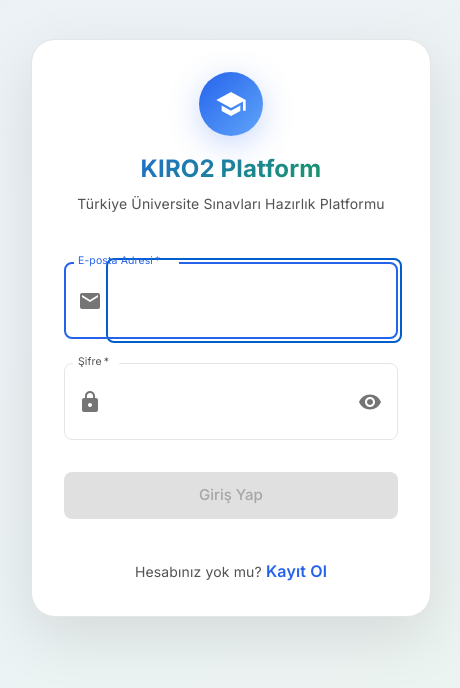
Test: ModernLoginForm › Form Validation › clears field error when user starts typing
# Trigger validation error
Step 1. Submit the form, box left=64, top=246, right=398, bottom=535
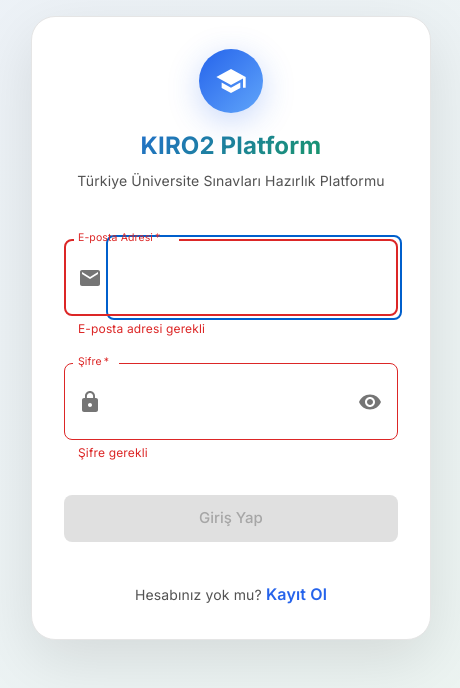
Check: the text "E-posta adresi gerekli" is shown, box left=78, top=322, right=205, bottom=336
# Start typing in email field
Step 2. Type "t" into the field labelled "E-posta Adresi *" → point(254, 278), box left=110, top=240, right=398, bottom=316
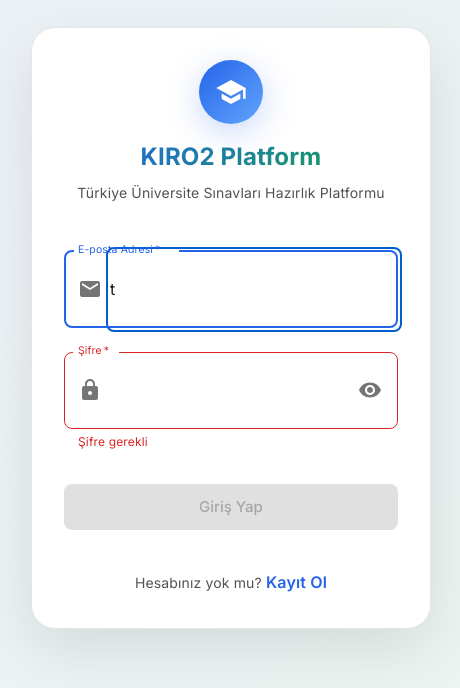
Check: the text "E-posta adresi gerekli" is gone
